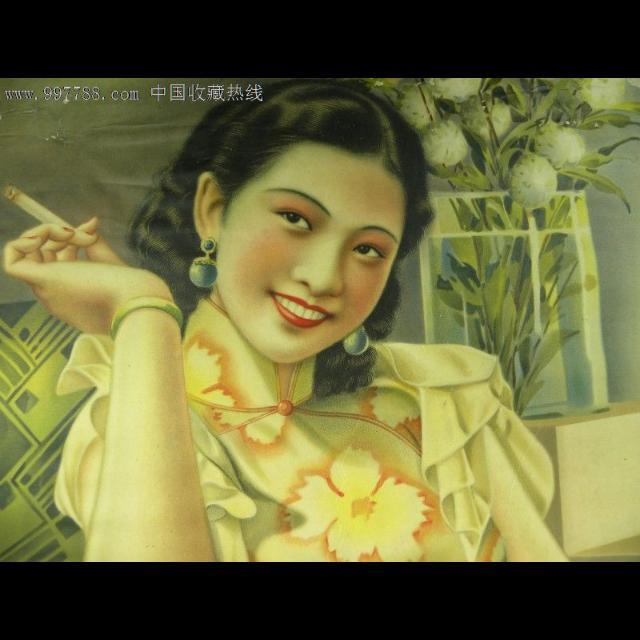rokok: (0, 178, 106, 252)
